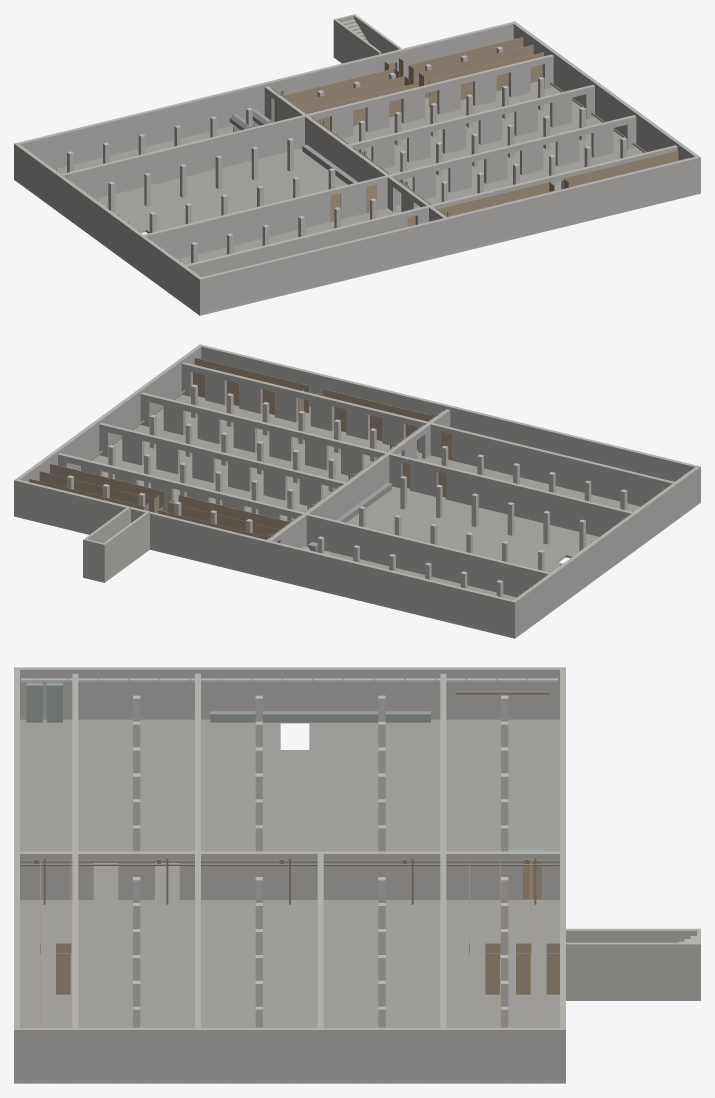
The model's file is b2_basement.glb.
3 renders of one model, top to bottom at view 1: azimuth 30°, elevation 25°; view 2: azimuth 150°, elevation 25°; view 3: azimuth 270°, elevation 25°, orthographic. The views are drawn at different scales.
Parts seen in each view (by area): view 1: b2_bsm_wall_f-1__basement_wall, b2_bsm_floor_f-1__basement_floor, b2_bsm_grid_f-1__storage_grid, b2_bsm_column_f-1__column, b2_bsm_pit_f-1__monolith, b2_bsm_floor_f-1__slab_edge, b2_bsm_equip_f-1__equipment, b2_bsm_pipe_f-1__pipe; view 2: b2_bsm_wall_f-1__basement_wall, b2_bsm_floor_f-1__basement_floor, b2_bsm_grid_f-1__storage_grid, b2_bsm_column_f-1__column, b2_bsm_pit_f-1__monolith, b2_bsm_floor_f-1__slab_edge, b2_bsm_equip_f-1__equipment, b2_bsm_pipe_f-1__pipe; view 3: b2_bsm_floor_f-1__basement_floor, b2_bsm_wall_f-1__basement_wall, b2_bsm_pit_f-1__monolith, b2_bsm_column_f-1__column, b2_bsm_equip_f-1__equipment, b2_bsm_grid_f-1__storage_grid, b2_bsm_pipe_f-1__pipe, b2_bsm_floor_f-1__slab_edge, b2_bsm_tray_f-1__cable_tray.
Part boxes in pixels (x1,y1,x2,y2): b2_bsm_wall_f-1__basement_wall: [14, 21, 700, 315]; b2_bsm_floor_f-1__basement_floor: [54, 81, 643, 264]; b2_bsm_grid_f-1__storage_grid: [285, 37, 688, 216]; b2_bsm_column_f-1__column: [67, 46, 627, 263]; b2_bsm_pit_f-1__monolith: [333, 14, 400, 63]; b2_bsm_floor_f-1__slab_edge: [14, 178, 700, 315]; b2_bsm_equip_f-1__equipment: [229, 62, 446, 226]; b2_bsm_pipe_f-1__pipe: [272, 75, 646, 217]; b2_bsm_wall_f-1__basement_wall: [14, 344, 700, 638]; b2_bsm_floor_f-1__basement_floor: [78, 395, 640, 599]; b2_bsm_grid_f-1__storage_grid: [29, 358, 433, 539]; b2_bsm_column_f-1__column: [67, 384, 627, 597]; b2_bsm_pit_f-1__monolith: [83, 506, 149, 582]; b2_bsm_floor_f-1__slab_edge: [14, 502, 698, 638]; b2_bsm_equip_f-1__equipment: [133, 414, 451, 555]; b2_bsm_pipe_f-1__pipe: [76, 390, 442, 539]; b2_bsm_floor_f-1__basement_floor: [20, 719, 559, 1027]; b2_bsm_wall_f-1__basement_wall: [14, 667, 565, 1083]; b2_bsm_pit_f-1__monolith: [566, 928, 700, 1000]; b2_bsm_column_f-1__column: [133, 695, 508, 1027]; b2_bsm_equip_f-1__equipment: [26, 682, 545, 899]; b2_bsm_grid_f-1__storage_grid: [40, 859, 559, 1027]; b2_bsm_pipe_f-1__pipe: [21, 691, 558, 904]; b2_bsm_floor_f-1__slab_edge: [14, 722, 565, 1083]; b2_bsm_tray_f-1__cable_tray: [21, 677, 558, 681].
Bounding box in the file's own units: 42 × 3.05 × 33.6.
